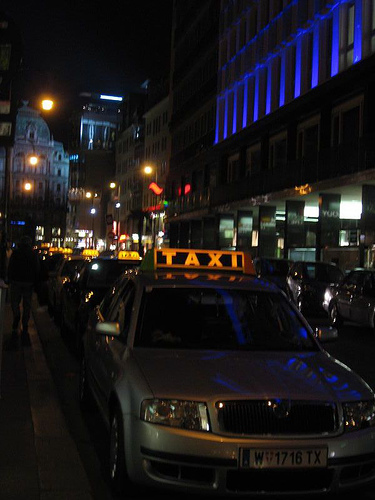car: (77, 248, 372, 493)
